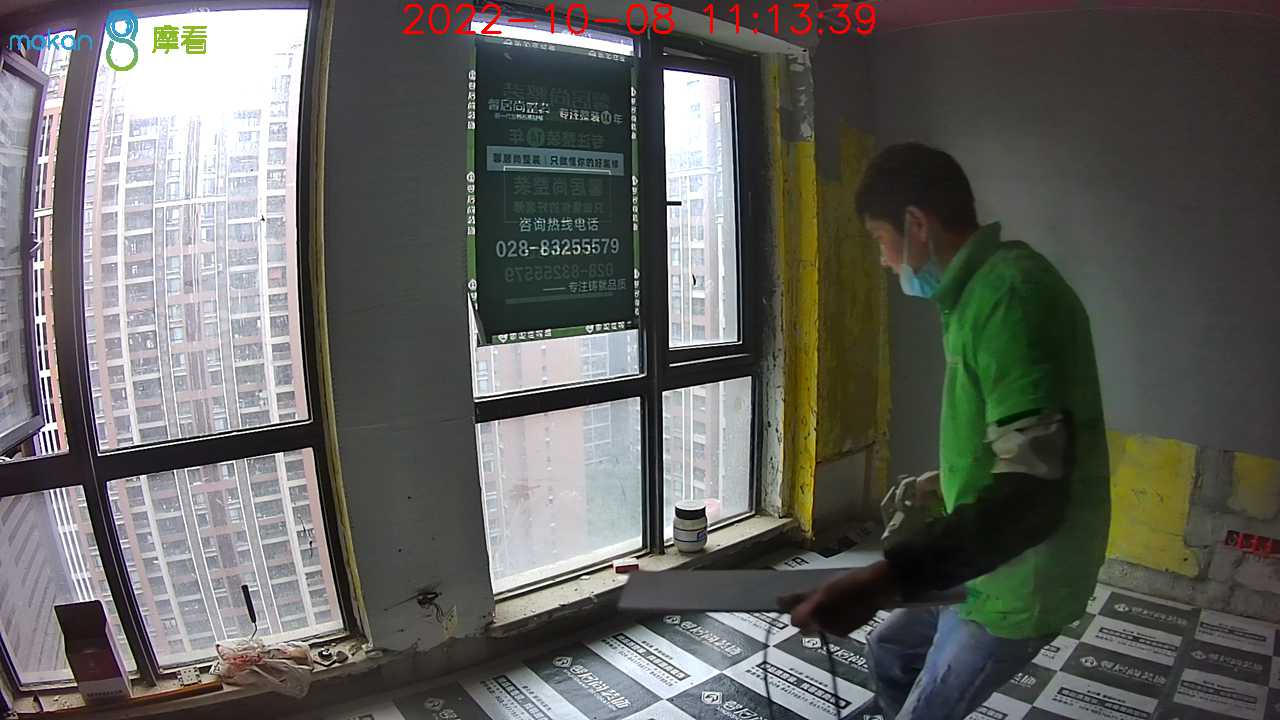people: (807, 139, 1112, 720)
window: (5, 8, 782, 714)
